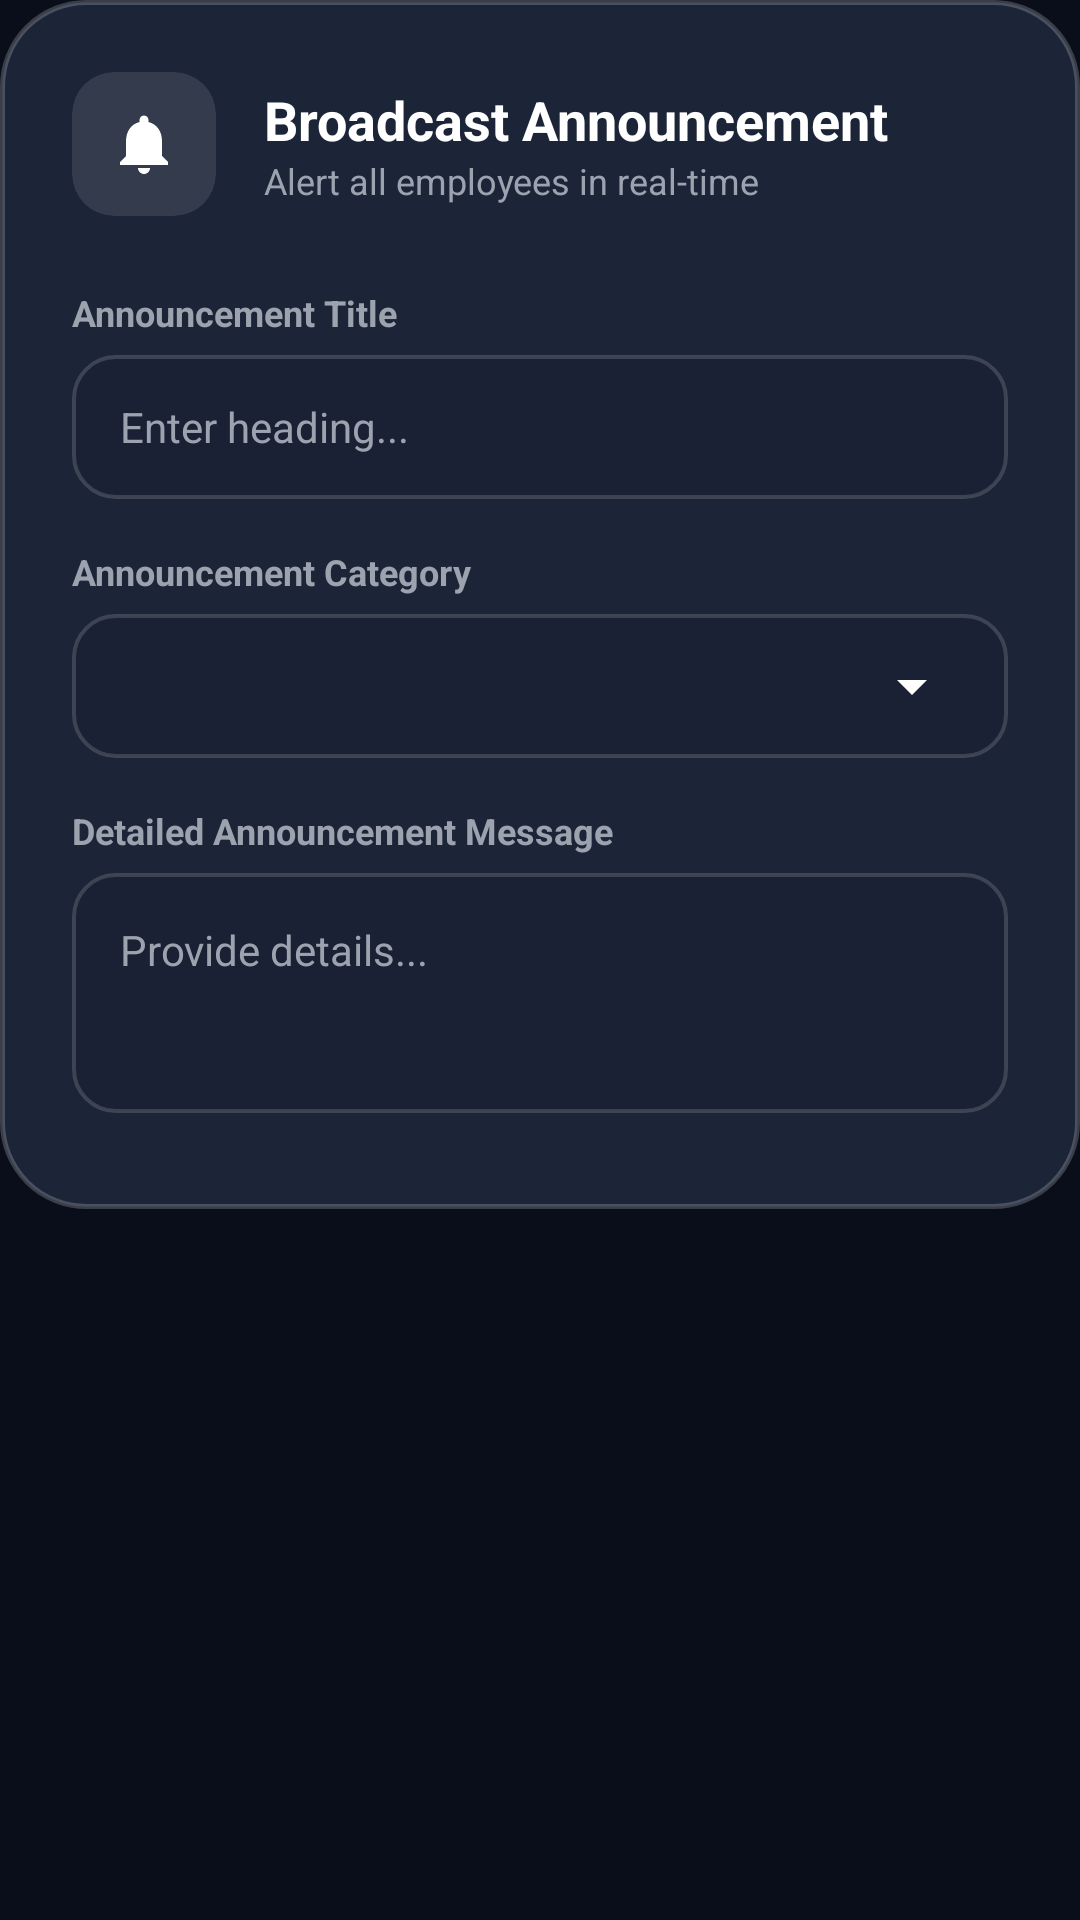

Named icons in this screenshot (1080w x 1920h) and their bounding boxes, rect(x1, y1, x2, y2):
Notification Icon: rect(120, 115, 168, 174)
